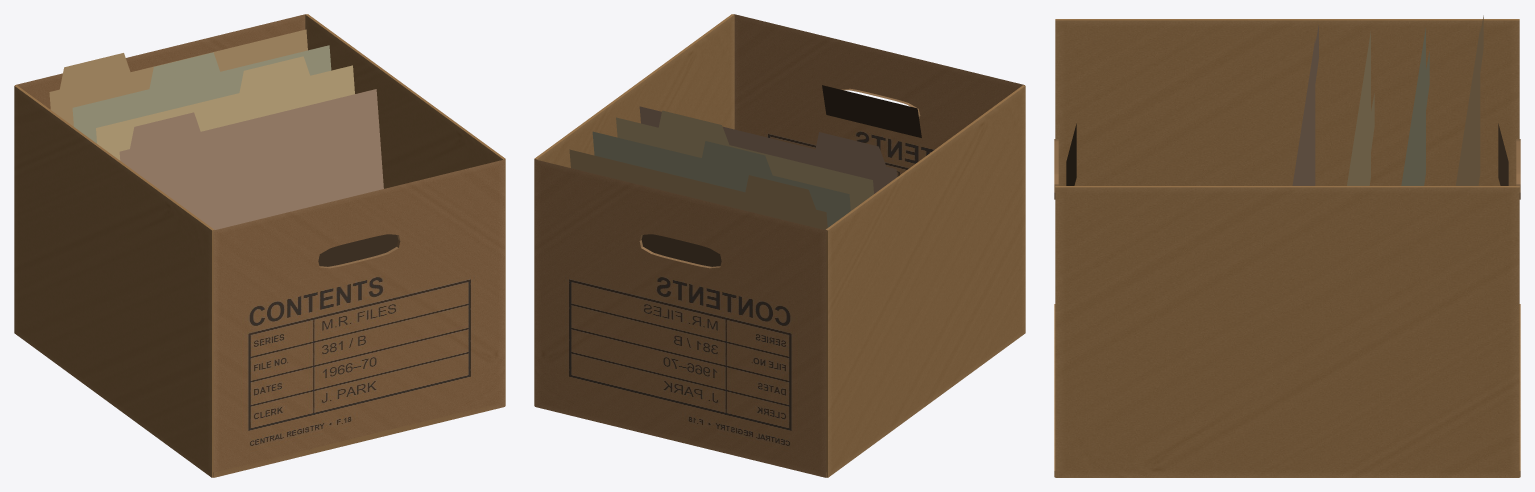
File: record_case_2.gltf
3 renders of one model, left to right at view 1: azimuth 30°, elevation 25°; view 2: azimuth 150°, elevation 25°; view 3: azimuth 270°, elevation 25°, orthographic. The views are drawn at different scales.
Parts seen in each view (by area): view 1: record_case_2; view 2: record_case_2; view 3: record_case_2.
Part boxes in pixels (x1,y1,x2,y2): record_case_2: (14, 14, 505, 477); record_case_2: (534, 14, 1025, 477); record_case_2: (1054, 15, 1520, 477).
Size of the model in its own units: 0.344 by 0.3019 by 0.403.
Materials: 8 (2 with a texture image).
